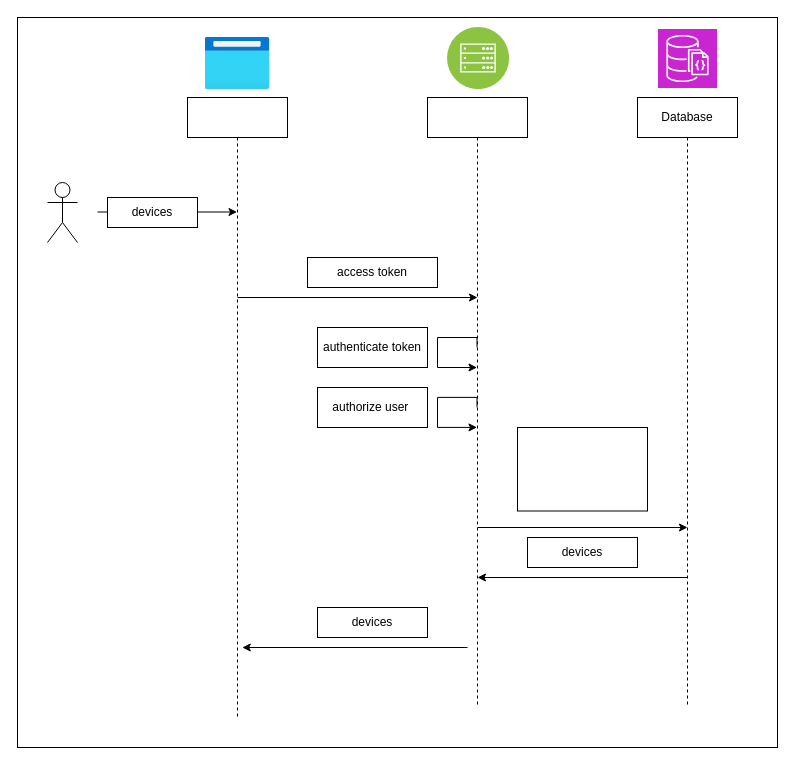
The diagram is 795 pixels wide and 765 high, and some of its shapes have lost their labels. Here are the shapes that lost their labels. From the top down, the box of each, then its label:
(46, 182, 78, 242): Admin
(186, 96, 288, 718): Frontend
(426, 96, 528, 708): Backend
(516, 426, 648, 511): for admin, find all devices for farmer, finf device by userid
